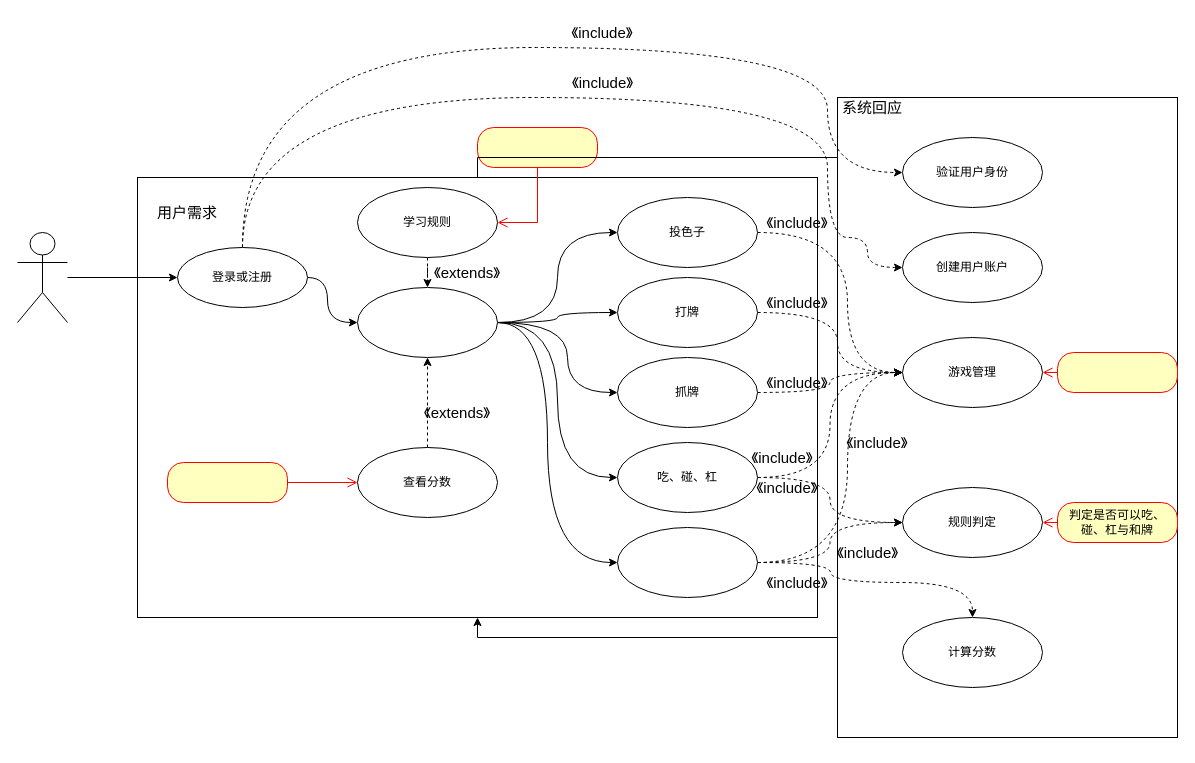
Some shapes in this 1195 by 763 pixel diagram are drawn without their labels. The centre of each missing label's shape, as x and y in pixels:
"Actor" belongs at (x=42, y=277).
"和牌" belongs at (x=687, y=562).
"开始游戏" belongs at (x=427, y=322).
"玩家可以了解基 本的麻将规则" belongs at (x=537, y=147).
"用户可以查看自 己的游戏积分" belongs at (x=227, y=482).
"管理游戏进程" belongs at (x=1117, y=372).
